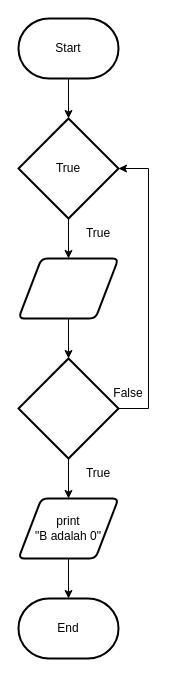
The diagram is 175 pixels wide and 676 high, and some of its shapes have lost their labels. Each missing label, with the box of its shape:
B == 0: (17, 357, 119, 459)
input B: (17, 257, 119, 319)
